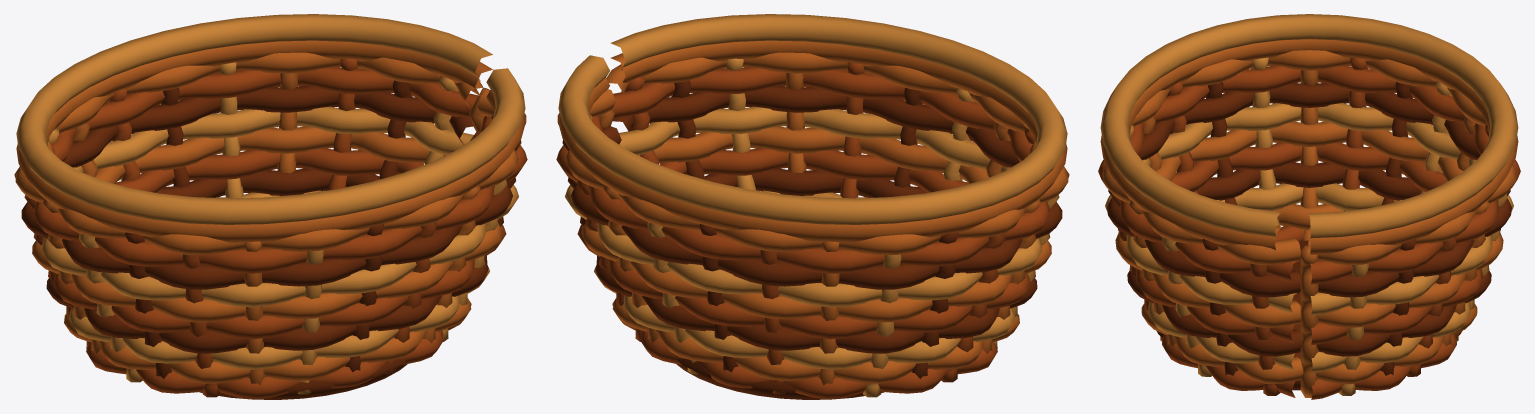
File: palm-weave-basket.glb
3 renders of one model, left to right at view 1: azimuth 30°, elevation 25°; view 2: azimuth 150°, elevation 25°; view 3: azimuth 270°, elevation 25°, orthographic. The views are drawn at different scales.
Visible parts, largest first — view 1: over and under, foot; view 2: over and under, foot; view 3: over and under, foot.
Part boxes in pixels (x1,y1,x2,y2): over and under: (14,14,527,399); foot: (199,359,407,399); over and under: (556,14,1069,399); foot: (676,359,884,399); over and under: (1098,14,1520,399); foot: (1156,240,1462,390).
Size of the model in its own units: 1.4 by 0.6758 by 1.17.
